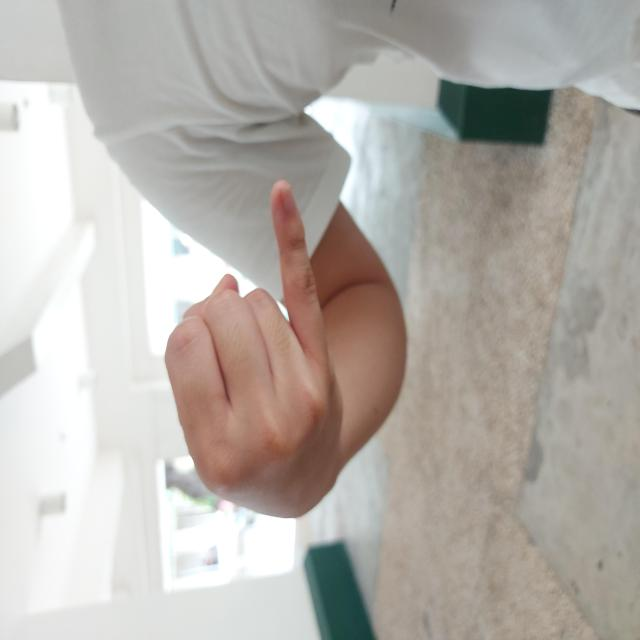J: (120, 164, 465, 344)
